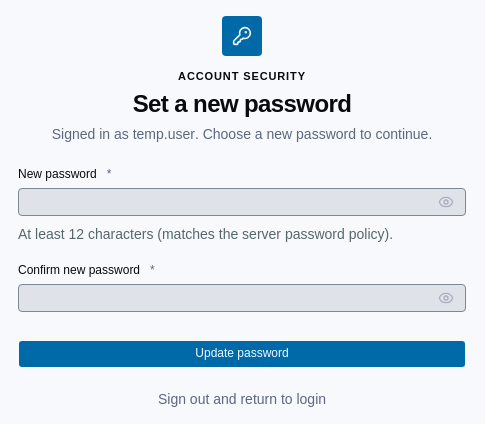
Scenario: ChangePasswordPage › toggles new-password visibility
In the password field labelled "New password *": (242, 202) [18, 188, 466, 216], type "longenough123"
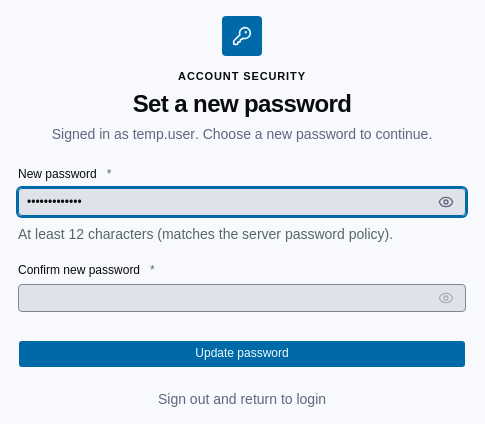
Click the button named "show new password": click(446, 202) [426, 188, 466, 216]
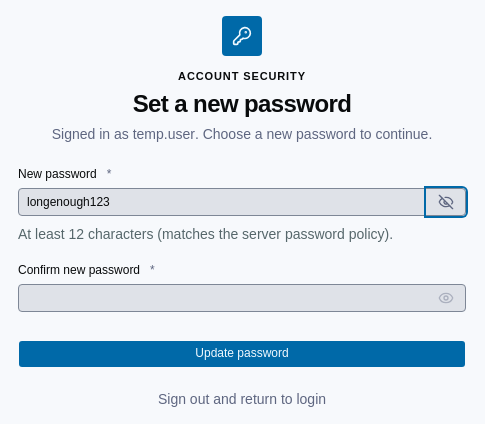
Result: the field labelled "New password *" shows its text at [18, 188, 466, 216]
Click the button named "hide new password": click(446, 202) [426, 188, 466, 216]
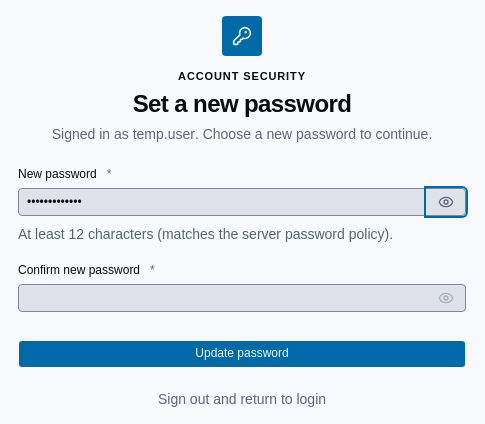
Result: the password field labelled "New password *" hides its text at [18, 188, 466, 216]
